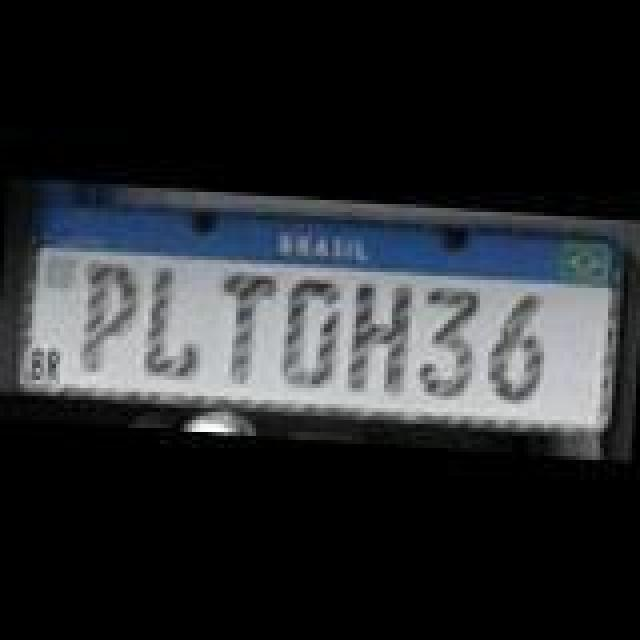3: (418, 282, 478, 406)
6: (482, 288, 550, 408)
D: (278, 268, 346, 388)
H: (348, 274, 420, 398)
L: (142, 264, 210, 384)
P: (78, 258, 146, 382)
T: (210, 266, 286, 390)
